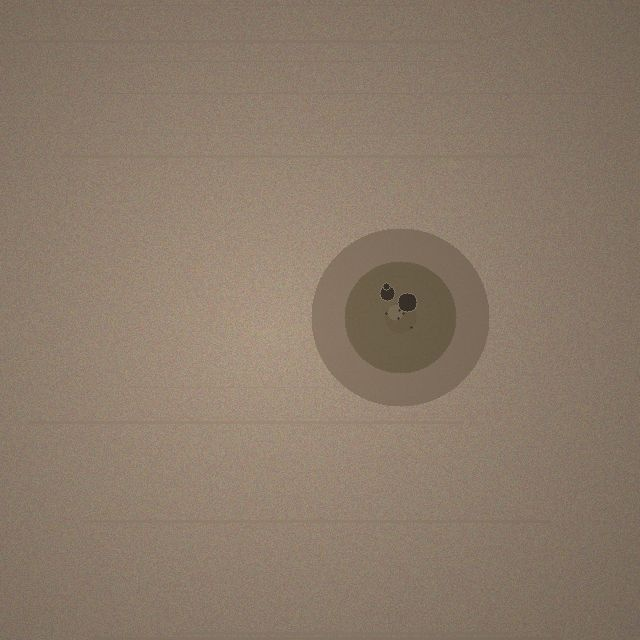shrinkage: (311, 228, 489, 406)
